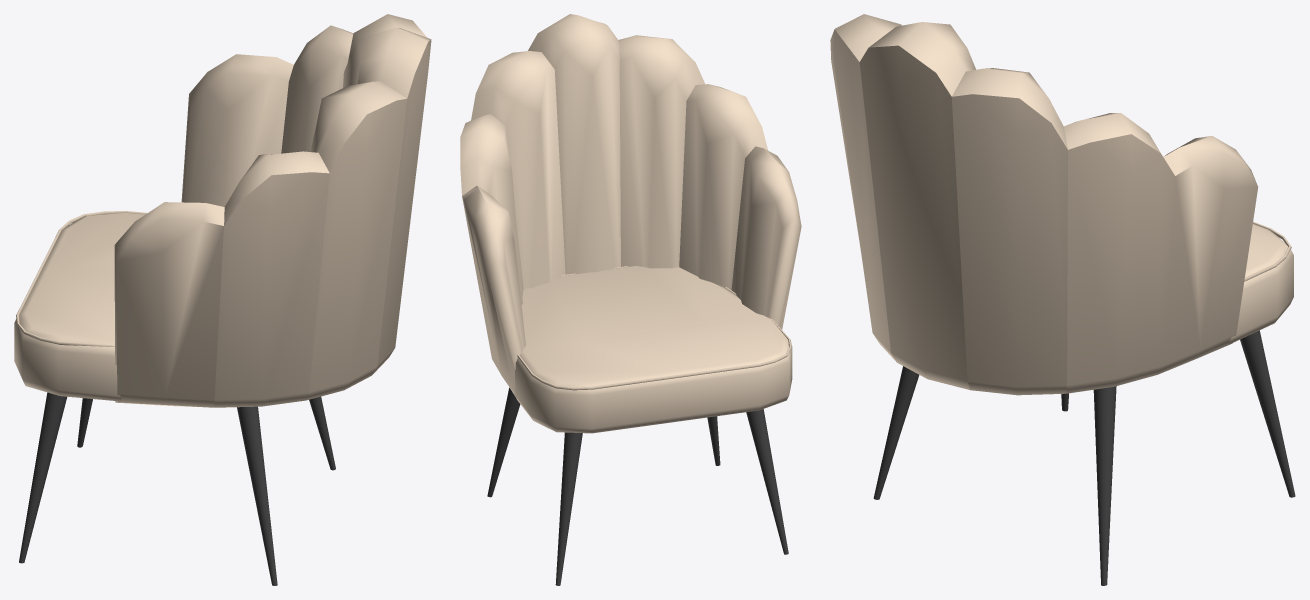
Rendered from Chair.fbx.
3 renders of one model, left to right at view 1: azimuth 30°, elevation 25°; view 2: azimuth 150°, elevation 25°; view 3: azimuth 270°, elevation 25°, orthographic. The views are drawn at different scales.
Visible parts, largest first — view 1: chair; view 2: chair; view 3: chair.
Part boxes in pixels (x1=…): chair: x1=14, y1=14, x2=431, y2=585; chair: x1=460, y1=14, x2=801, y2=585; chair: x1=830, y1=14, x2=1295, y2=585.
Bounding box in the file's own units: 1.35 × 1.76 × 1.34.
